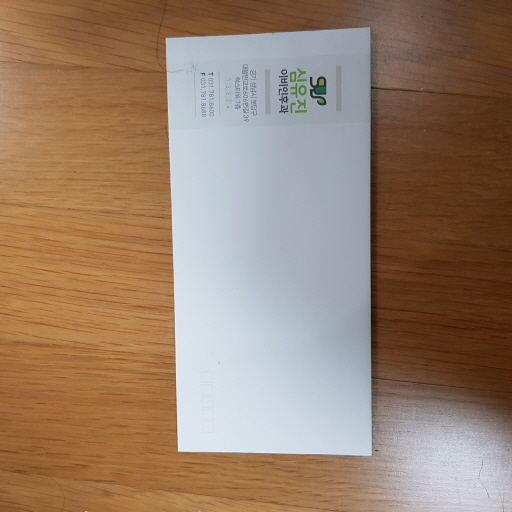Paper_2: (167, 24, 395, 479)
